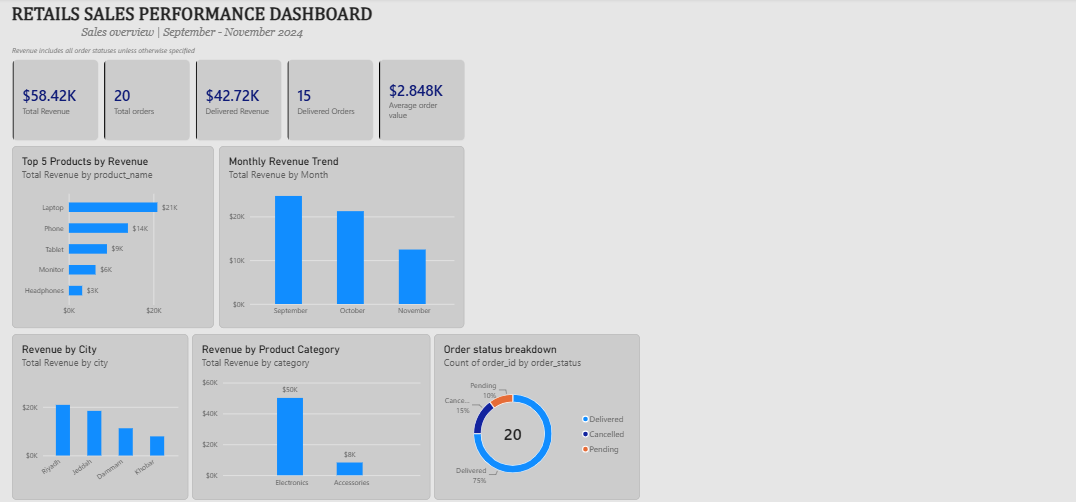

This screenshot's page, from the dashboard's own definition file:
{"tool":"powerbi","page":{"name":"Page 1","canvas":[1920,1080],"ordinal":0},"visuals":[{"type":"cardVisual","fields":{"Data":["order_items.Total Revenue","KPI.Total orders","KPI.Delivered Revenue","KPI.Delivered Orders","KPI.Average order value"]},"box":[22.2,106.1,786.9,142.4],"z":0},{"type":"clusteredColumnChart","title":"Monthly Revenue Trend","fields":{"Category":["orders.order_date.Variation.Date Hierarchy.Month"],"Y":["order_items.Total Revenue"]},"box":[378.8,256.6,423.1,314.4],"z":6},{"type":"clusteredColumnChart","title":"Revenue by Product Category","fields":{"Category":["products.category"],"Y":["KPI.Total Revenue"]},"box":[332.3,580.8,410.6,285.6],"z":7},{"type":"clusteredBarChart","title":"Top 5 Products by Revenue","fields":{"Category":["products.product_name"],"Y":["order_items.Total Revenue"]},"box":[22.2,256.6,348.1,314.4],"z":8},{"type":"clusteredColumnChart","title":"Revenue by City","fields":{"Category":["customers.city"],"Y":["order_items.Total Revenue"]},"box":[22.2,580.8,303.8,285.6],"z":9},{"type":"donutChart","title":"Order status breakdown","fields":{"Category":["orders.order_status"],"Y":["CountNonNull(orders.order_id)"]},"box":[750.5,580.8,354.8,285.6],"z":10},{"type":"textbox","box":[0,11.5,665.4,61.5],"z":11},{"type":"textbox","box":[22.2,81.8,1109.1,24.2],"z":12}]}

Visuals, with their boxes on the page's 1920x1080 design canvas (x1, y1, x2, y2). These are canvas units, not pixel positions in the 1076x502 screenshot, which may show the page scaled, cropped or inside an application window:
cardVisual - order_items.Total Revenue x KPI.Total orders: (x1=22, y1=106, x2=809, y2=248)
"Monthly Revenue Trend" clusteredColumnChart: (x1=379, y1=257, x2=802, y2=571)
"Revenue by Product Category" clusteredColumnChart: (x1=332, y1=581, x2=743, y2=866)
"Top 5 Products by Revenue" clusteredBarChart: (x1=22, y1=257, x2=370, y2=571)
"Revenue by City" clusteredColumnChart: (x1=22, y1=581, x2=326, y2=866)
"Order status breakdown" donutChart: (x1=750, y1=581, x2=1105, y2=866)
textbox: (x1=0, y1=12, x2=665, y2=73)
textbox: (x1=22, y1=82, x2=1131, y2=106)
